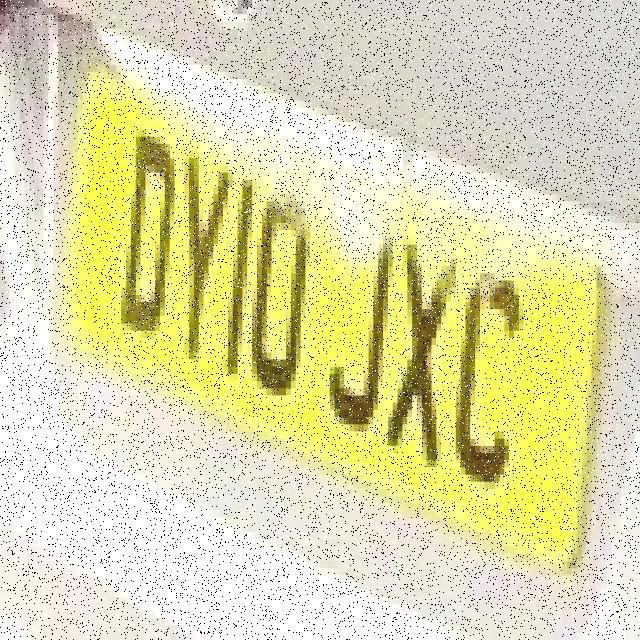LicensePlate: (32, 11, 612, 601)
